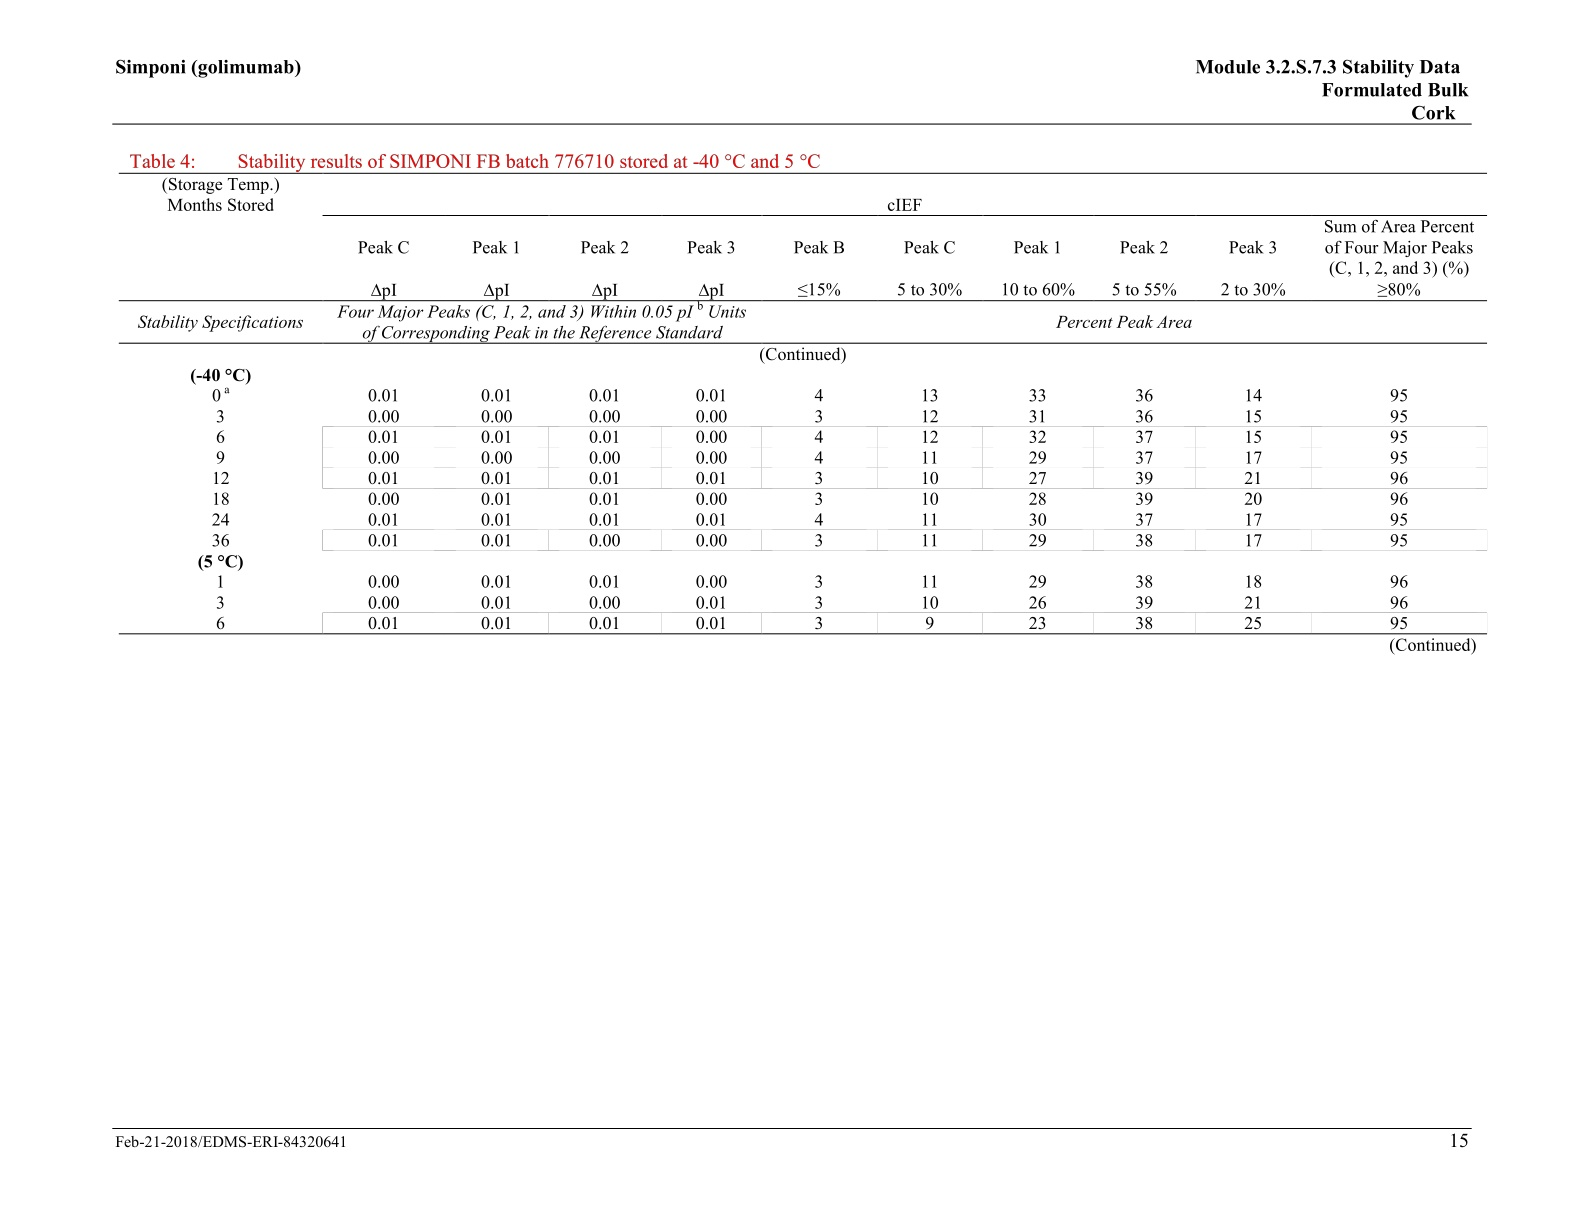partial_lined_merged_cells: (120, 172, 1489, 635)
